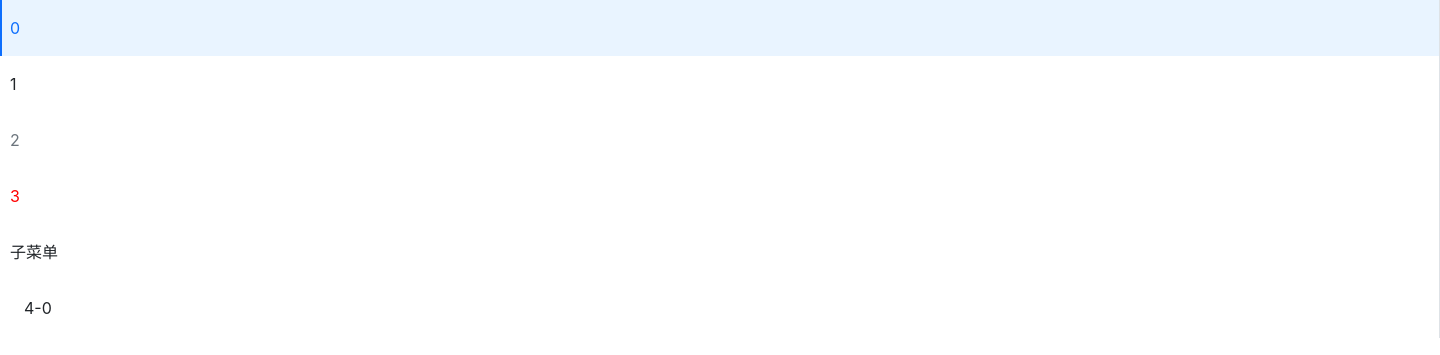
Test: 测试Menu 和 MenuItem 组件 › 渲染垂直模式默认展开子菜单
Expected: the list item "4-0" is shown, [24,298,52,318]
Step 1. Click the text "子菜单" → {"x": 34, "y": 252}, box [10,242,58,262]
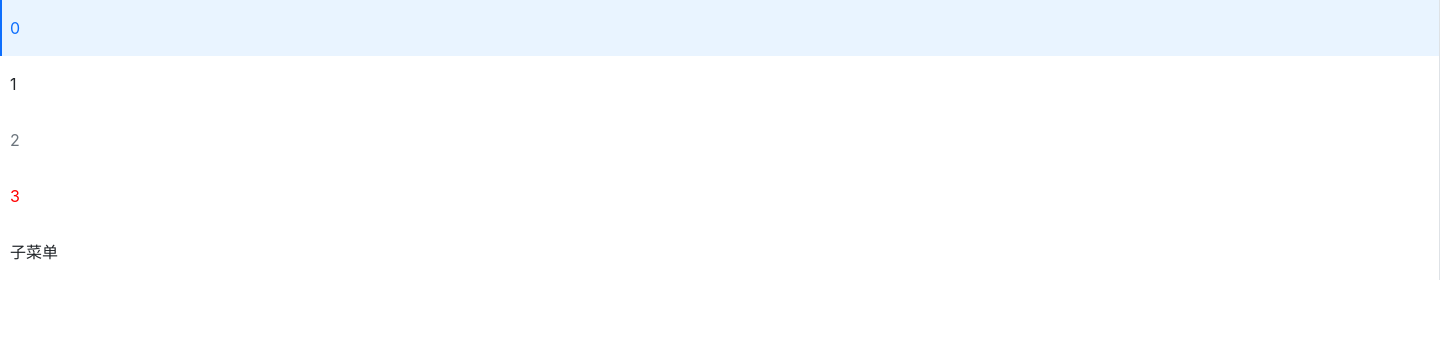
Expected: the list item "4-0" is gone
